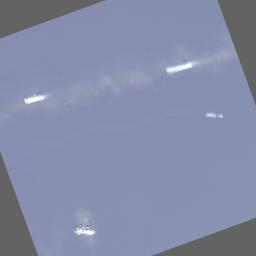boat: (72, 220, 96, 239), (165, 58, 191, 75), (24, 92, 44, 104), (205, 110, 215, 118), (217, 113, 222, 117), (108, 100, 110, 102)
